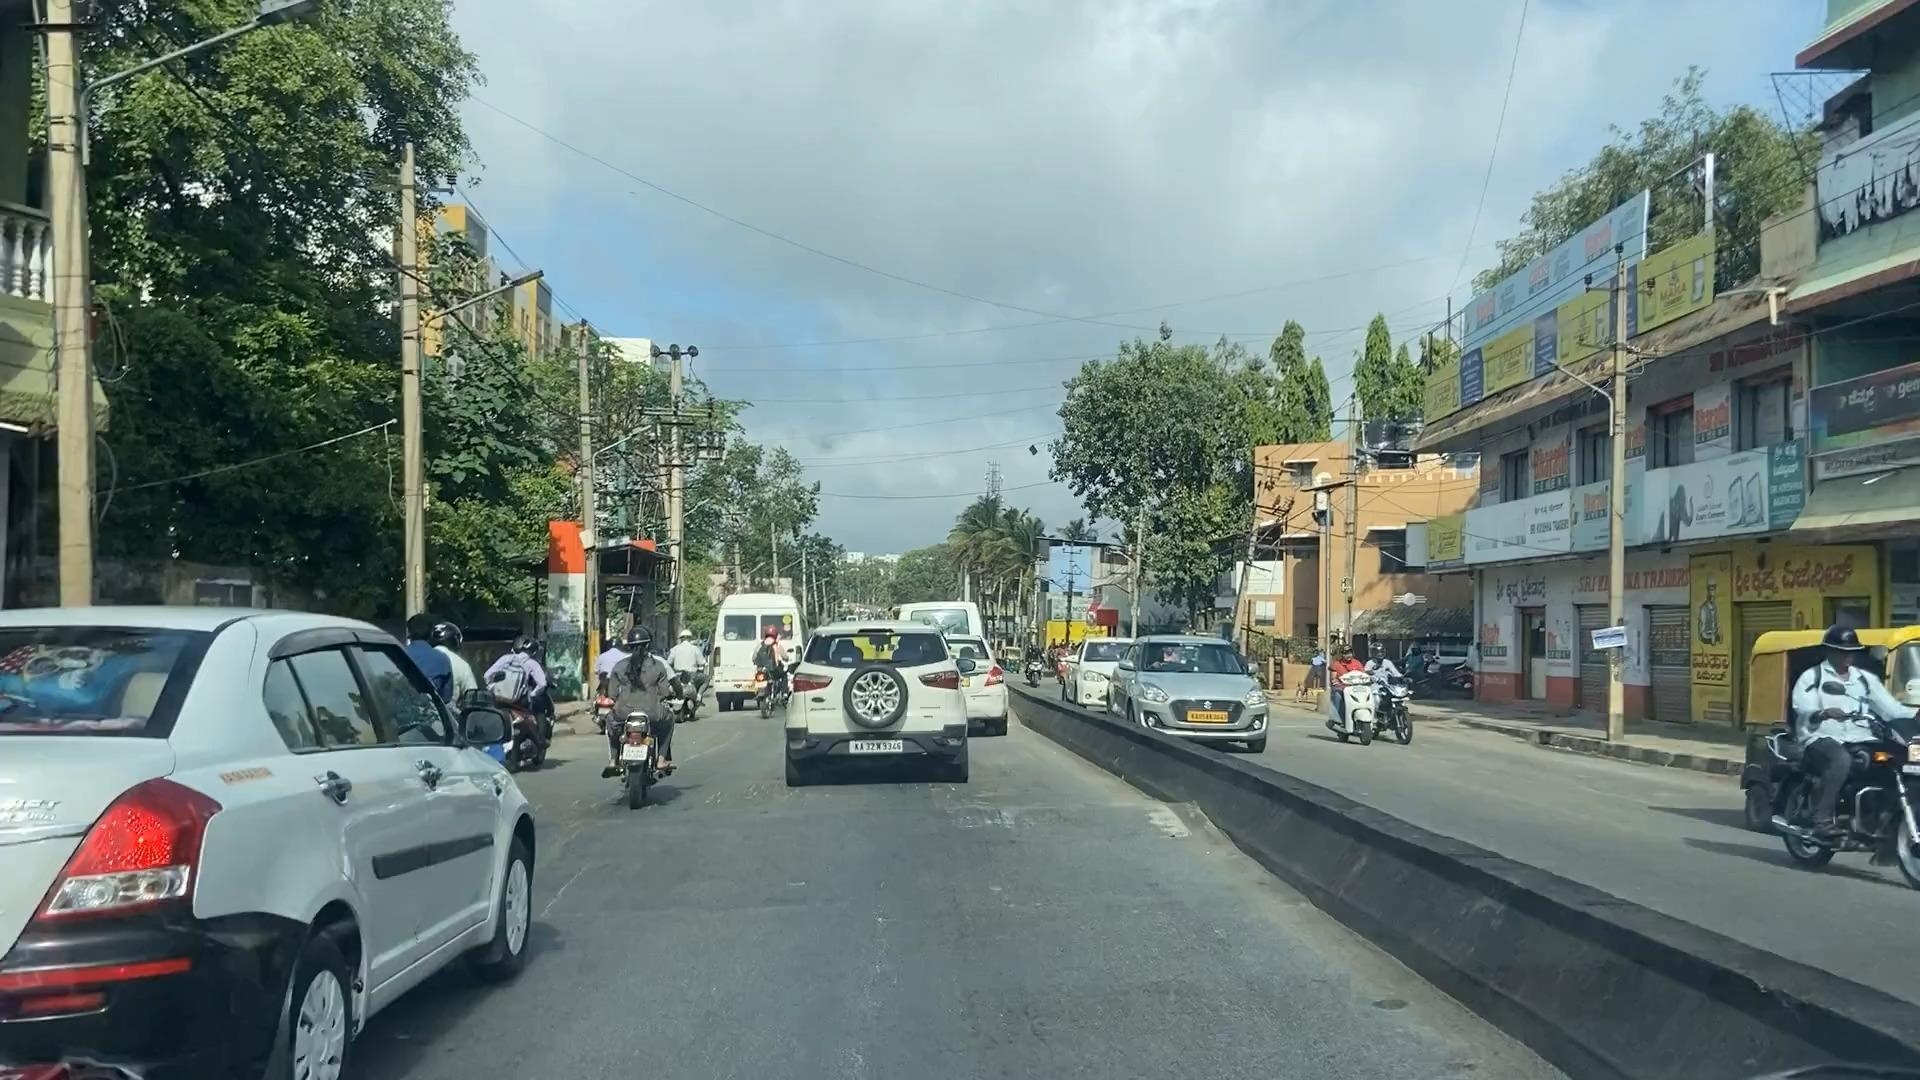LMV: (7, 611, 535, 1062), (789, 620, 967, 782), (611, 634, 673, 804), (750, 630, 787, 720)
RoadDamages: (542, 858, 608, 926)
SpeedBump: (529, 785, 1230, 844)
